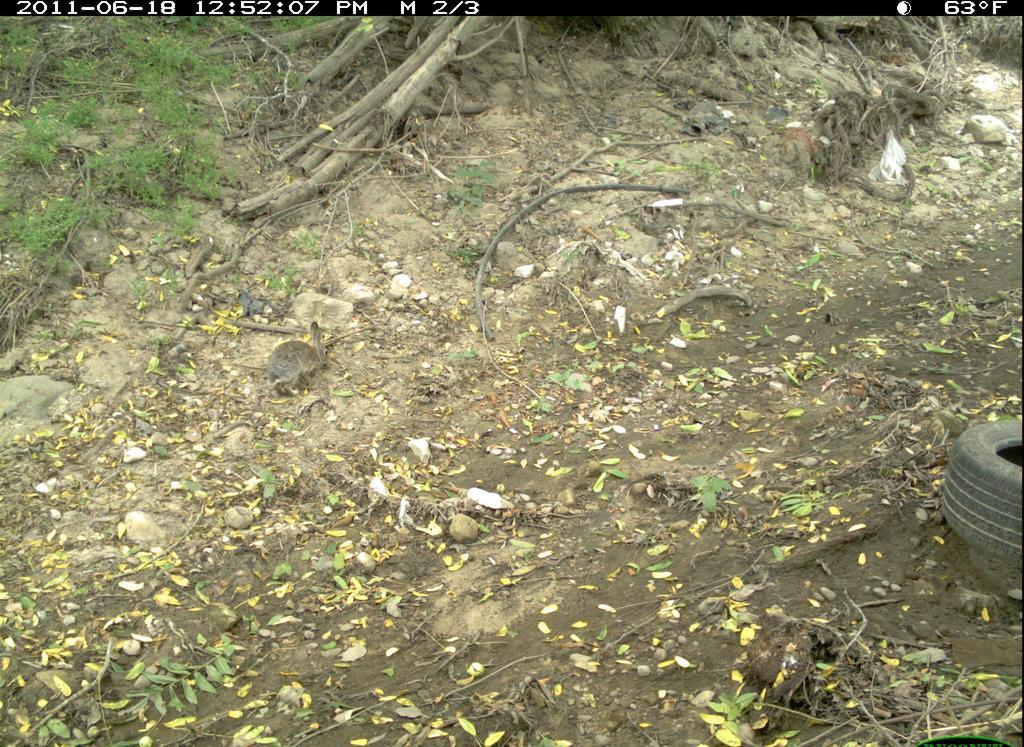rabbit: (254, 310, 347, 406)
